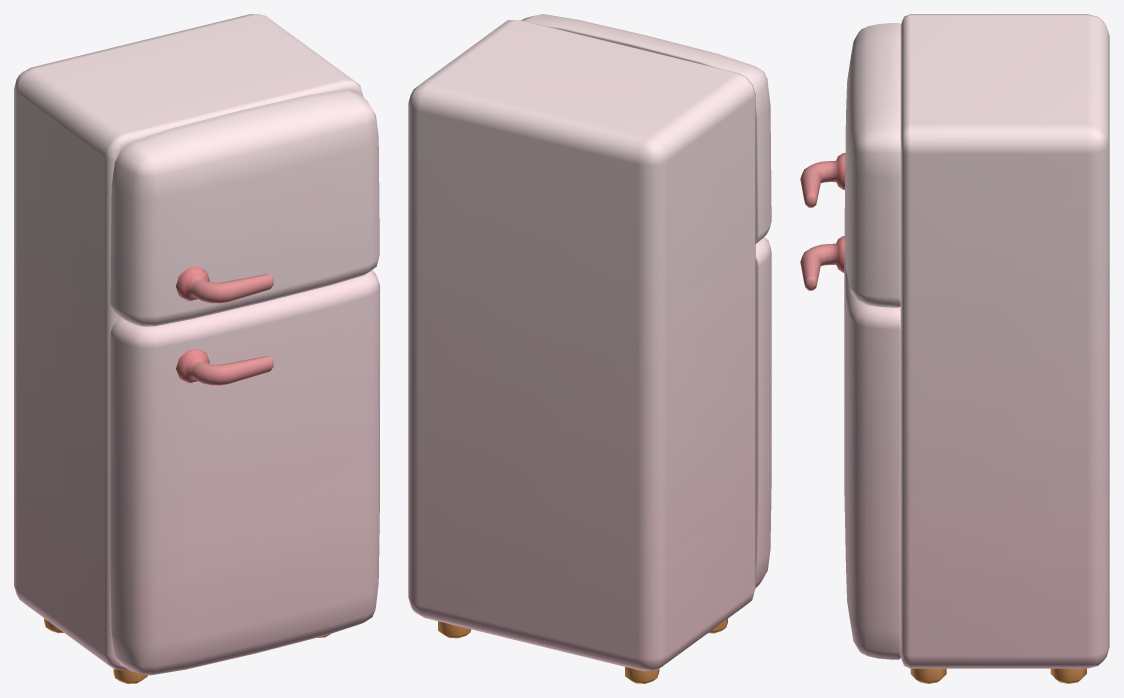
File: fridge_01.glb
The picture shows the model from 3 angles, left to right: view 1: azimuth 30°, elevation 25°; view 2: azimuth 150°, elevation 25°; view 3: azimuth 270°, elevation 25°; orthographic projection.
Parts seen in each view (by area): view 1: Fridge_01 (×2); view 2: Fridge_01 (×2); view 3: Fridge_01 (×2).
Part boxes in pixels (<box>): Fridge_01 (×2): <box>14,14,379,683</box>; Fridge_01 (×2): <box>408,14,771,683</box>; Fridge_01 (×2): <box>800,14,1109,683</box>.
Size of the model in its own units: 0.6799 by 1.4 by 0.6985.
Materials: 2 (2 with a texture image).
